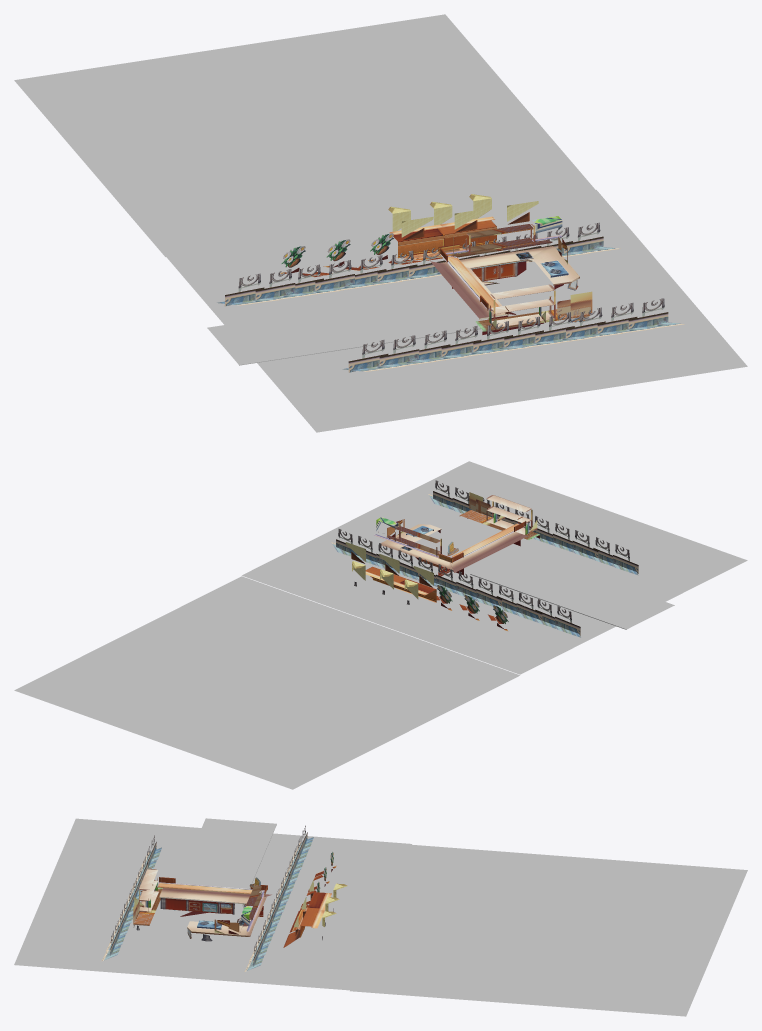
3 views of the same model, one above another, from view 1: azimuth 30°, elevation 25°; view 2: azimuth 150°, elevation 25°; view 3: azimuth 270°, elevation 25° (orthographic). The views are drawn at different scales.
Parts seen in each view (by area): view 1: Ca_floor1, Ca_wall1, Ca_Carpet, C1_Cupboard; view 2: Ca_floor1, Ca_wall1, Ca_Carpet, C1_Cupboard; view 3: Ca_floor1, C1_Cupboard, Ca_Carpet, Ca_wall1.
Boxes of the visible parts, box(x1,y1,x2,y2) form: Ca_floor1: box(14, 14, 747, 432); Ca_wall1: box(217, 194, 684, 372); Ca_Carpet: box(207, 291, 480, 365); C1_Cupboard: box(430, 216, 592, 334); Ca_floor1: box(14, 461, 747, 789); Ca_wall1: box(331, 480, 638, 637); Ca_Carpet: box(470, 549, 674, 629); C1_Cupboard: box(374, 492, 540, 576); Ca_floor1: box(14, 818, 747, 1016); C1_Cupboard: box(133, 868, 271, 941); Ca_Carpet: box(178, 818, 276, 905); Ca_wall1: box(101, 825, 347, 971).
Size of the model in its own units: 965 by 90.12 by 1518.
